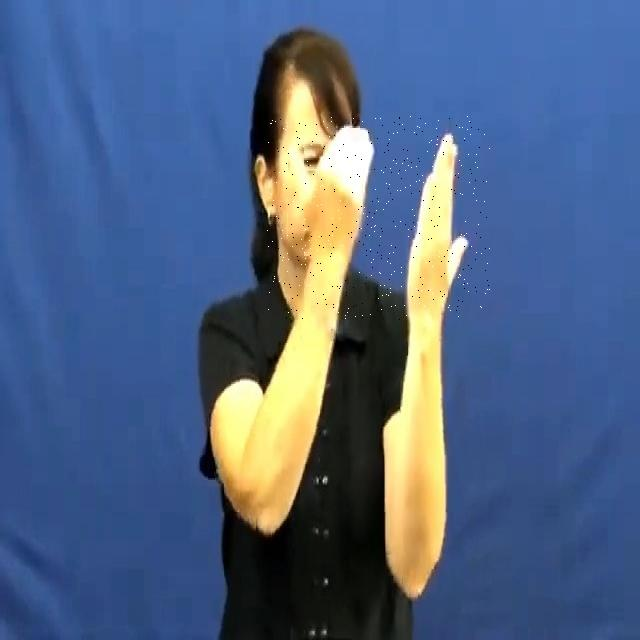menu: (266, 116, 490, 320)
